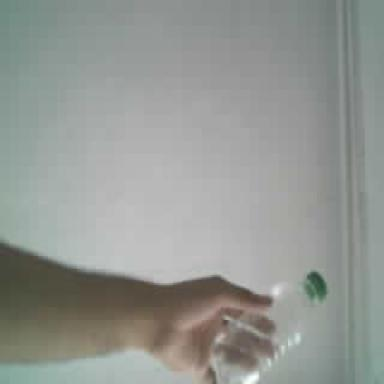bottle: (211, 272, 325, 382)
